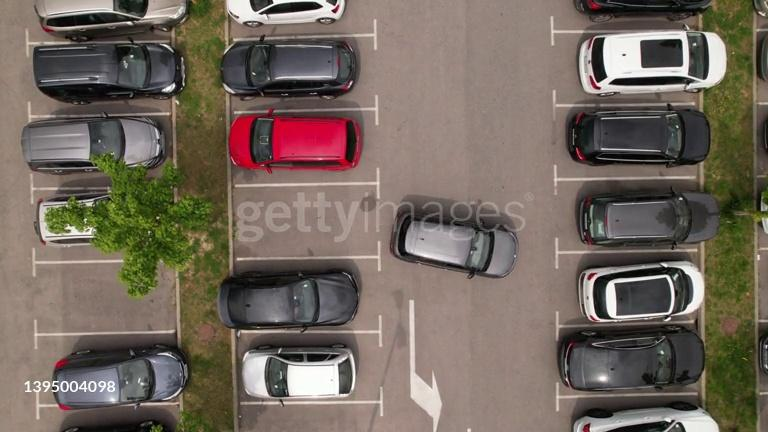car: (578, 28, 727, 95), (232, 107, 368, 179), (31, 41, 184, 104), (560, 327, 705, 390), (389, 207, 519, 277), (50, 344, 188, 409), (21, 115, 167, 174), (217, 268, 359, 328), (568, 107, 713, 165), (577, 188, 718, 246), (221, 38, 357, 98), (578, 259, 707, 321), (240, 344, 357, 399), (34, 0, 187, 40), (573, 402, 722, 432), (35, 191, 115, 244), (225, 0, 344, 27), (575, 0, 714, 21), (60, 417, 169, 431), (754, 33, 766, 83)
